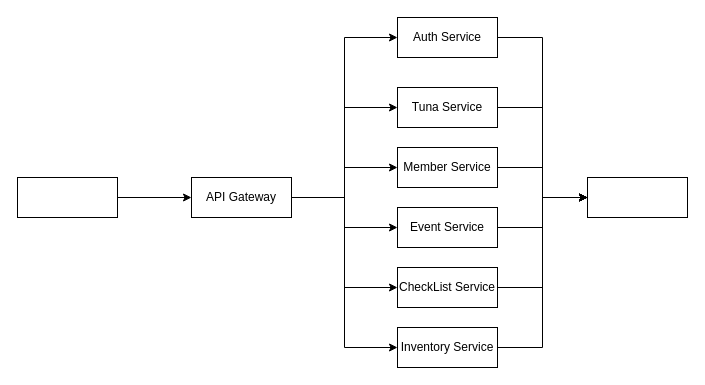
Image size: 705x385. Some labels were removed from this diagram. Each missing label, with the centre of its shape:
"Cliente" belongs at point 67,197.
"DataBase" belongs at point 637,197.
